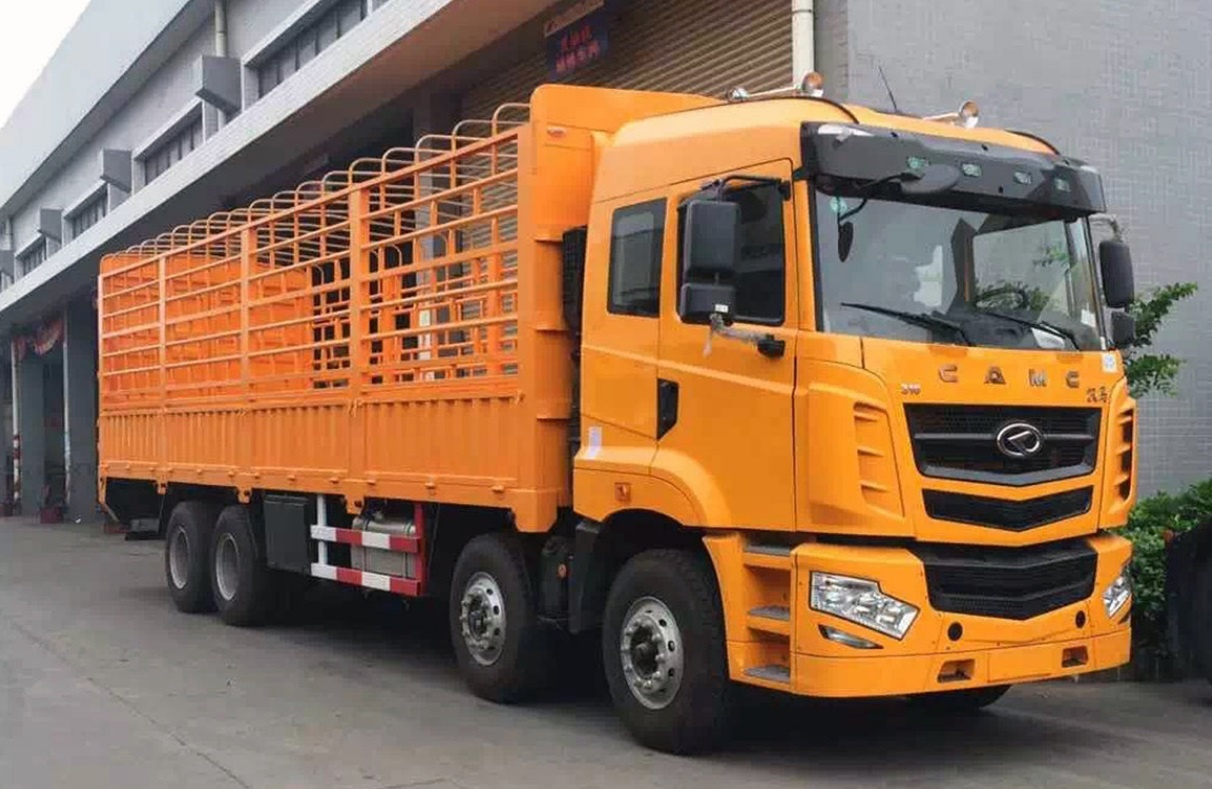heavy truck: (92, 88, 1150, 764)
